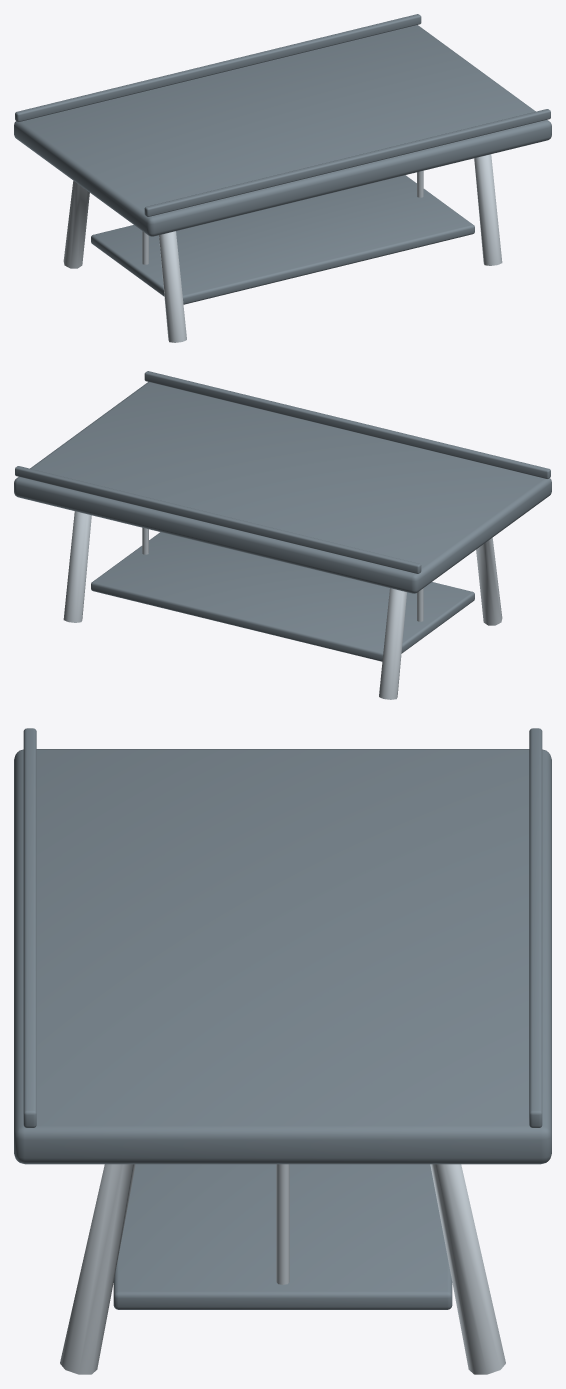
File: steel-tray-coffee-table.glb
3 views of the same model, one above another, from view 1: azimuth 30°, elevation 25°; view 2: azimuth 150°, elevation 25°; view 3: azimuth 270°, elevation 25° (orthographic). The views are drawn at different scales.
Parts seen in each view (by area): view 1: catalog_surface_RealismUV; view 2: catalog_surface_RealismUV; view 3: catalog_surface_RealismUV.
Part boxes in pixels (x1,y1,x2,y2): catalog_surface_RealismUV: [14, 14, 551, 342]; catalog_surface_RealismUV: [14, 371, 551, 699]; catalog_surface_RealismUV: [14, 728, 551, 1374].
Bounding box in the file's own units: 1.1 × 0.4 × 0.65.
